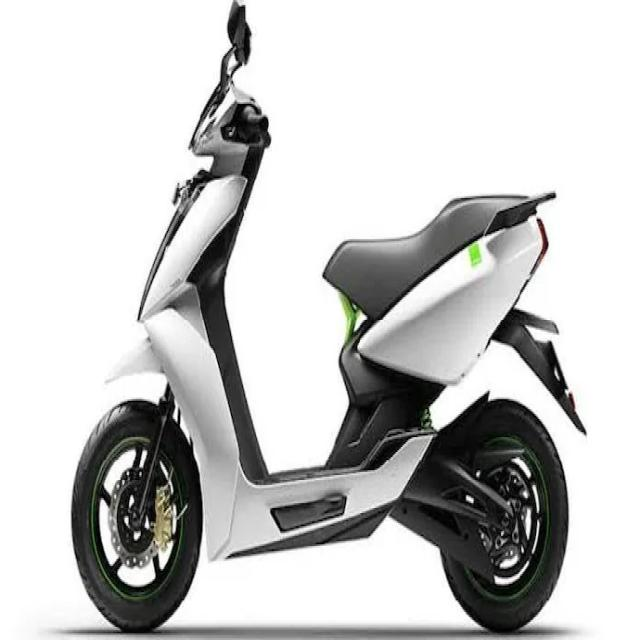objects: (50, 1, 599, 640)
